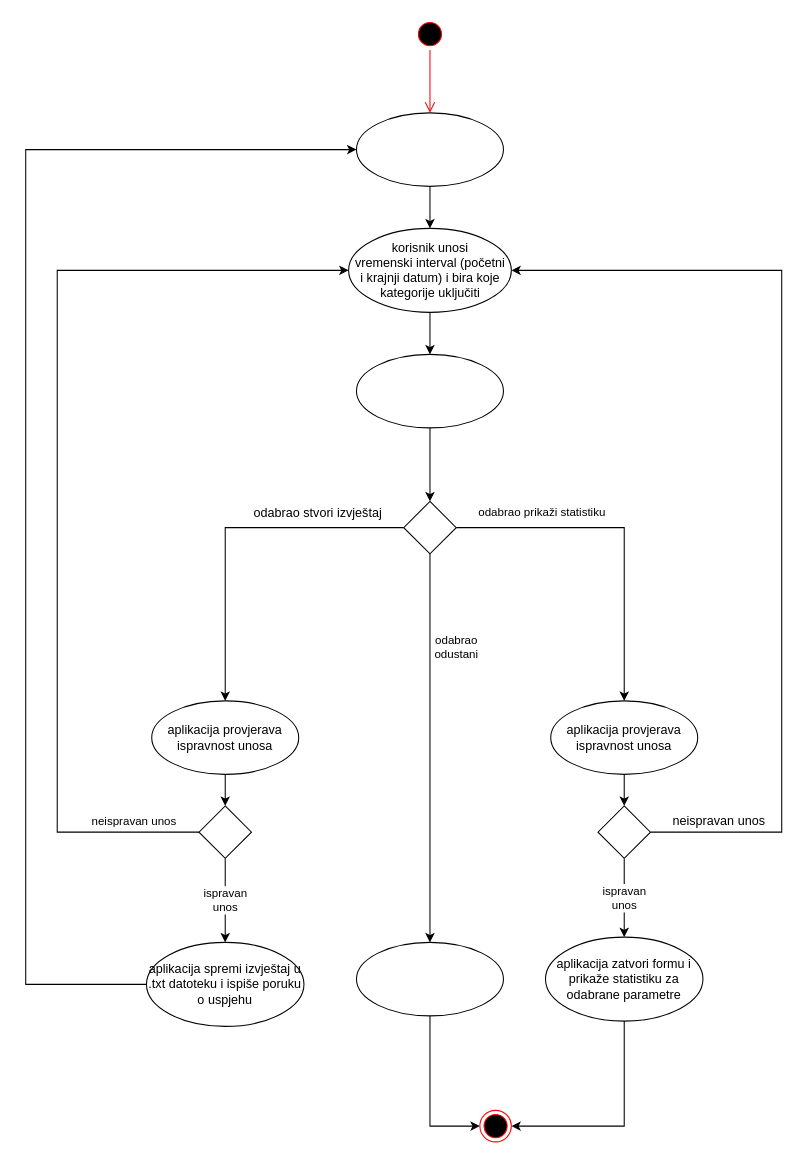
This 808x1160 diagram has some shape labels left out. The shapes that lost their labels are listed below. From the top down, each one's centre as x and y in pixels, then its label:
[429,149]: aplikacija prikaže opcije za prikaz statistike
[429,390]: korisnik bira prikaz statistike, stvaranje izvještaja ili odustani
[429,978]: aplikacija zatvori formu
